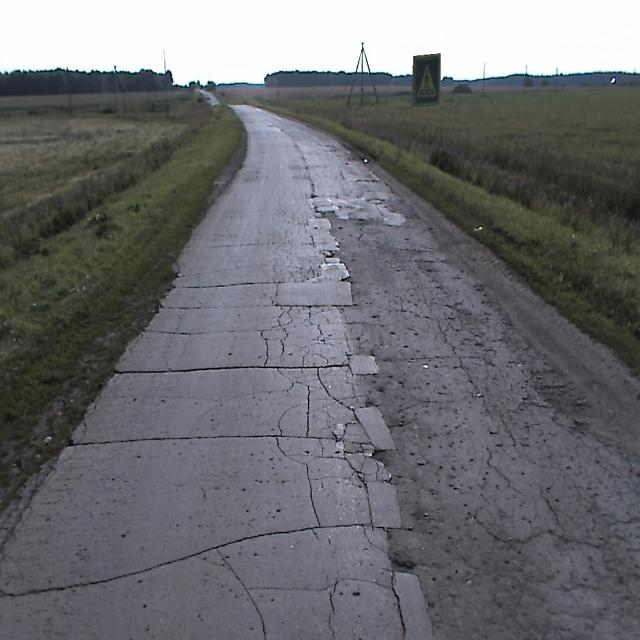road: (0, 100, 639, 639)
